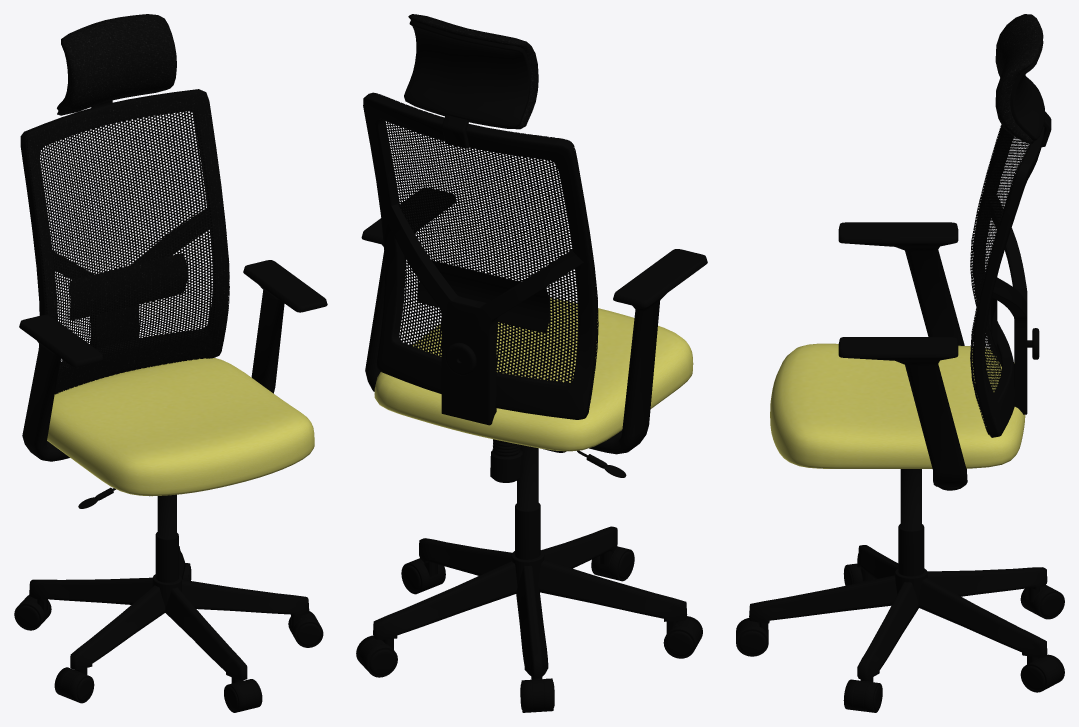
The model's file is chair_62_01.001.fbx.
The picture shows the model from 3 angles, left to right: view 1: azimuth 30°, elevation 25°; view 2: azimuth 150°, elevation 25°; view 3: azimuth 270°, elevation 25°; orthographic projection. The views are drawn at different scales.
Parts seen in each view (by area): view 1: chair_62_01.001; view 2: chair_62_01.001; view 3: chair_62_01.001.
Boxes of the visible parts, left/top/right/bottom form: chair_62_01.001: left=14, top=14, right=327, bottom=712; chair_62_01.001: left=356, top=14, right=707, bottom=712; chair_62_01.001: left=736, top=14, right=1064, bottom=712.
Bounding box in the file's own units: 51.37 × 110 × 53.32.
1 material, 1 textured.
